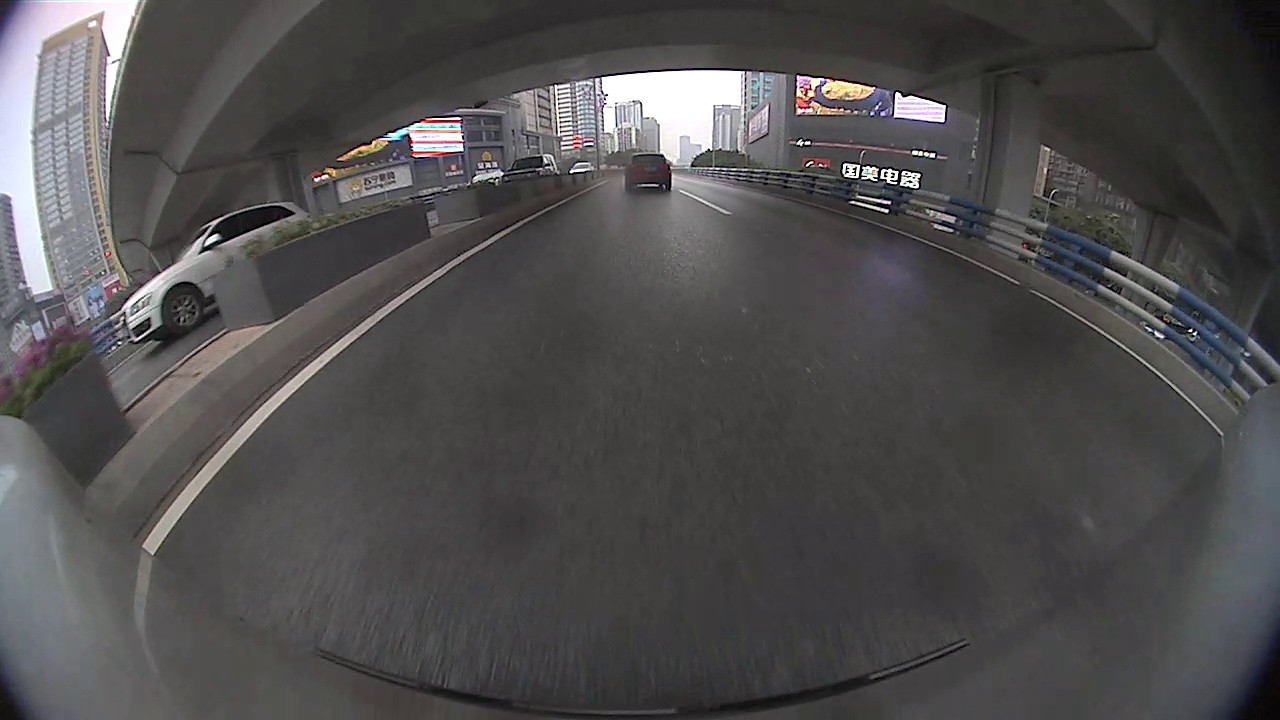car: (115, 196, 327, 349), (622, 151, 674, 196), (498, 151, 565, 185), (566, 156, 599, 178)
front: (161, 284, 206, 335)
